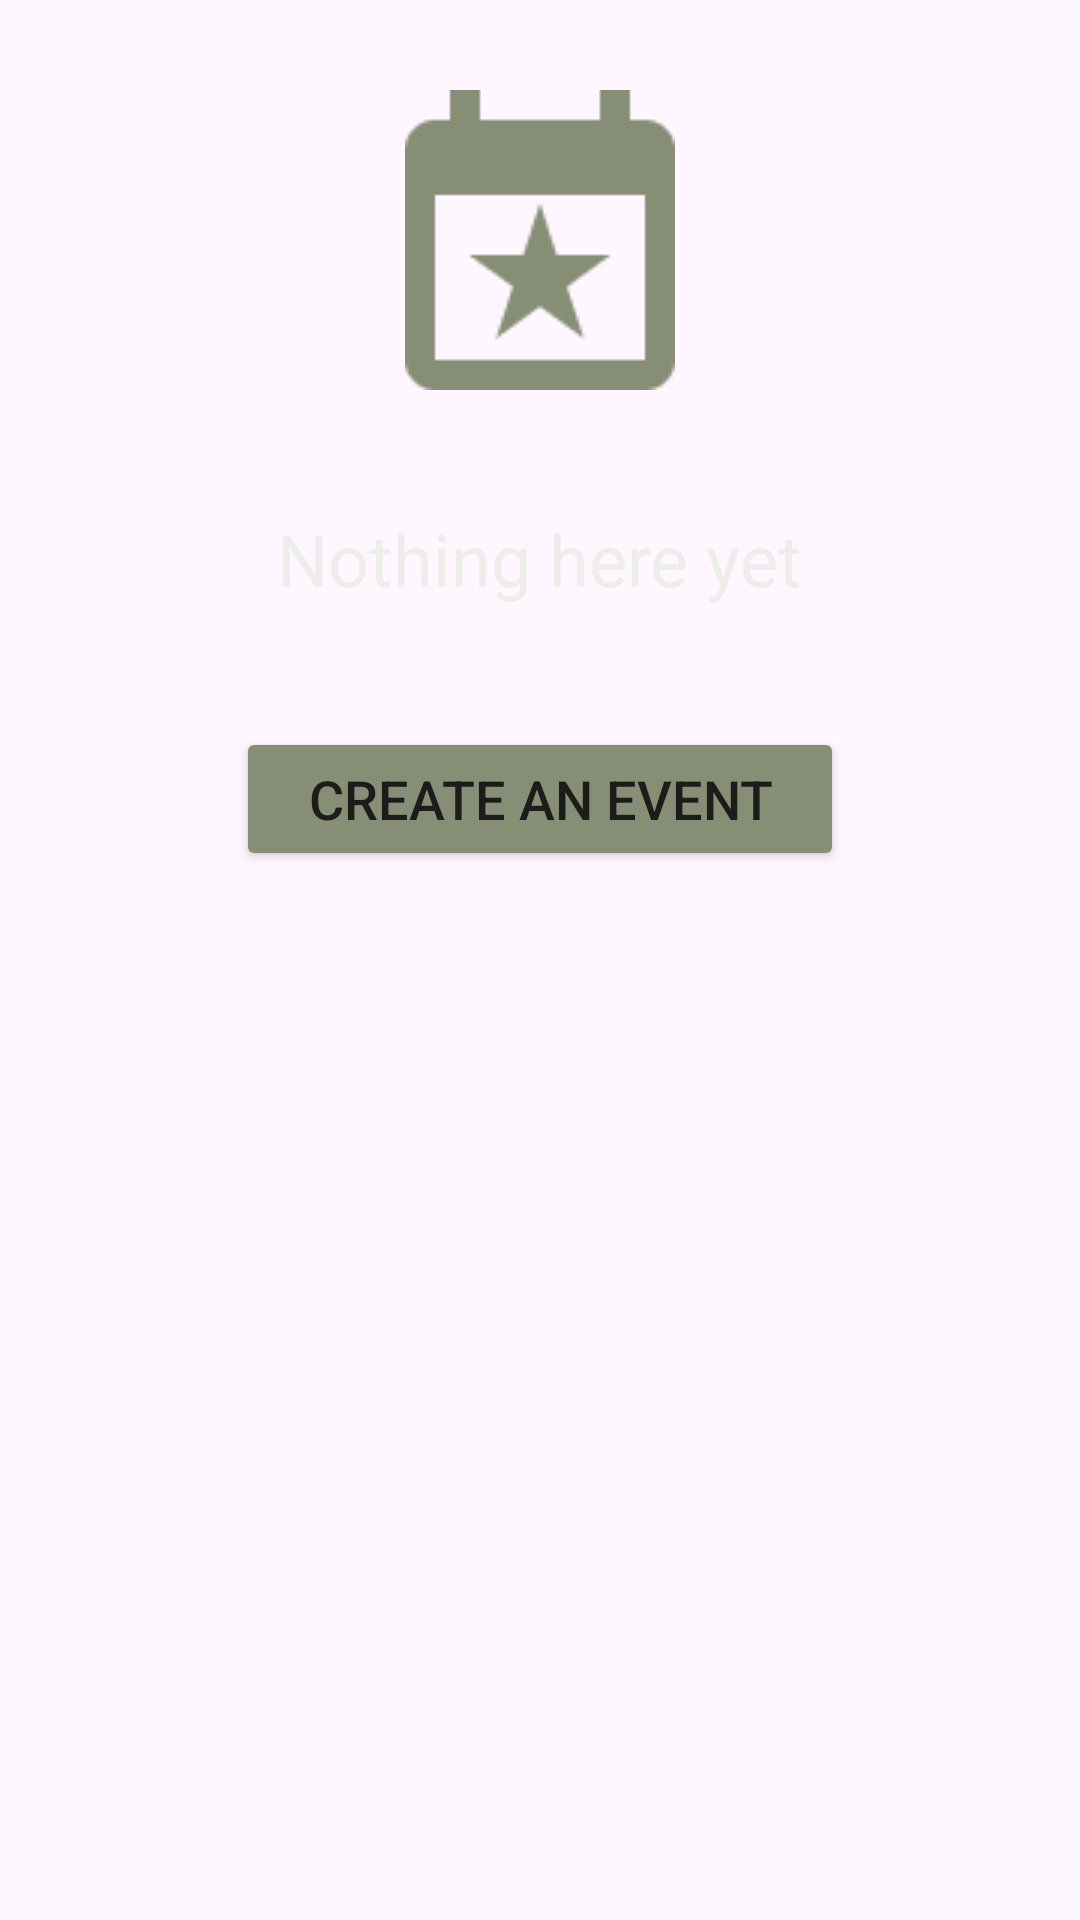

Screen size 1080 × 1920. Icon name, then its center in pixels as point (x, y):
schedule: point (540, 240)
